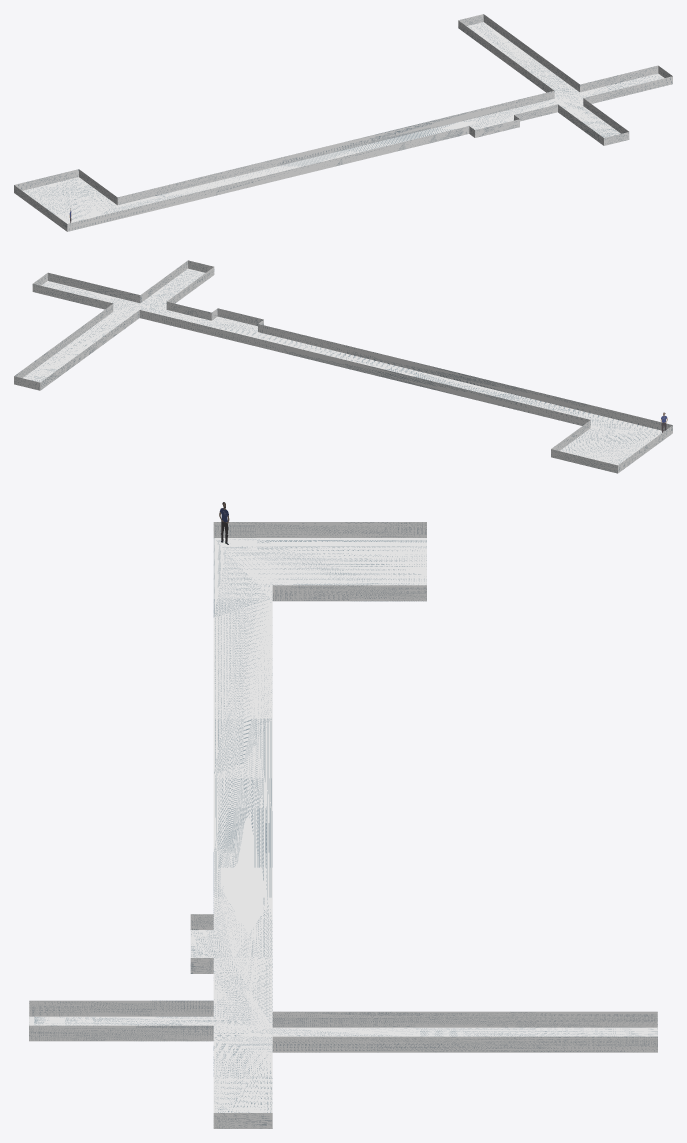
The model's file is resistors_dearborn.dae.
The picture shows the model from 3 angles, top to bottom: view 1: azimuth 30°, elevation 25°; view 2: azimuth 150°, elevation 25°; view 3: azimuth 270°, elevation 25°; orthographic projection. The views are drawn at different scales.
Visible parts, largest first — view 1: SketchUp (×2); view 2: SketchUp (×2); view 3: SketchUp (×2).
Part boxes in pixels (left/top/right/bottom): SketchUp (×2): left=14, top=14, right=672, bottom=231; SketchUp (×2): left=14, top=260, right=672, bottom=473; SketchUp (×2): left=29, top=522, right=657, bottom=1128.
Size of the model in its own units: 2196 by 987 by 71.73.
